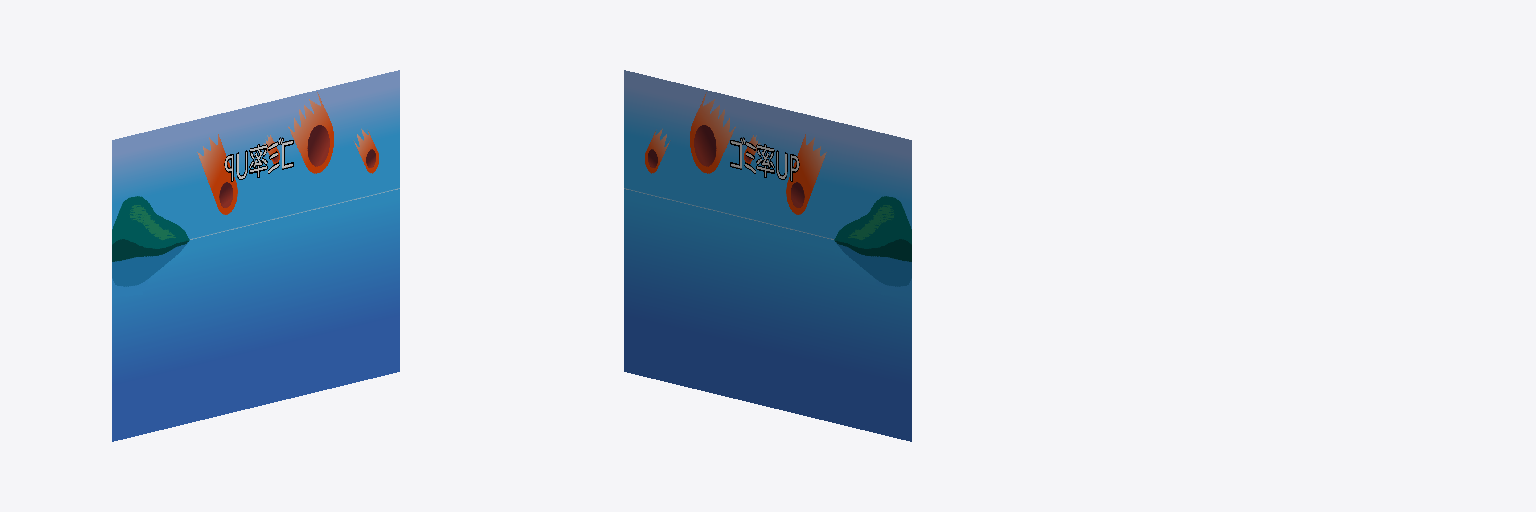
3 renders of one model, left to right at view 1: azimuth 30°, elevation 25°; view 2: azimuth 150°, elevation 25°; view 3: azimuth 270°, elevation 25°, orthographic.
Visible parts, largest first — view 1: 平面; view 2: 平面; view 3: none.
Part boxes in pixels (x1,y1,x2,y2): 平面: (112,70,399,441); 平面: (624,70,911,441).
Size of the model in its own units: 10 by 10 by 0.
Materials: 1 (1 with a texture image).